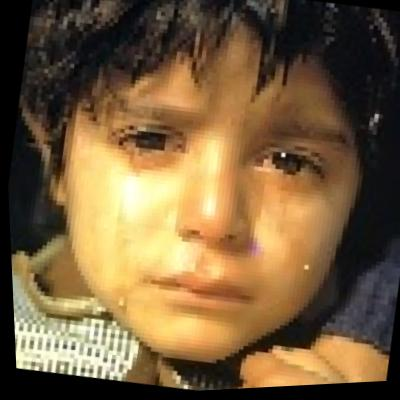sad: (31, 0, 370, 374)
